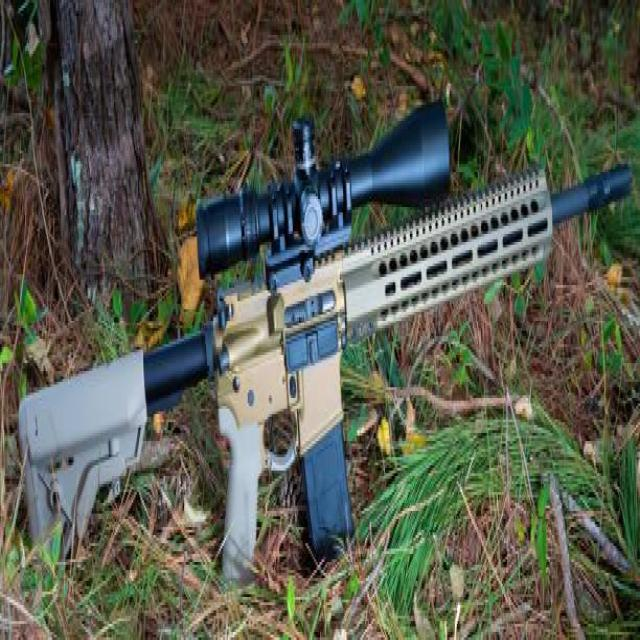weapon: (18, 95, 634, 588)
